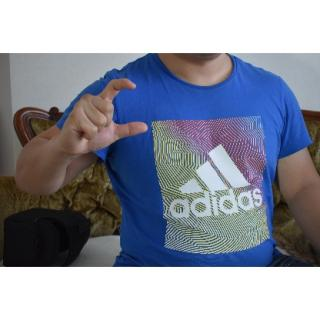DELL: (58, 74, 151, 156)
